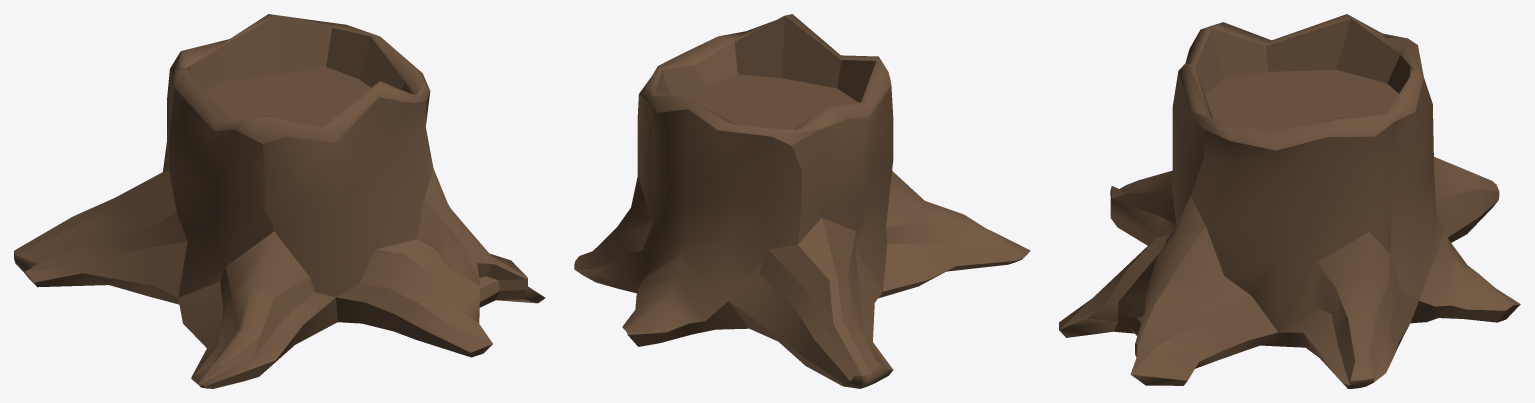
Rendered from stump1.fbx.
3 renders of one model, left to right at view 1: azimuth 30°, elevation 25°; view 2: azimuth 150°, elevation 25°; view 3: azimuth 270°, elevation 25°, orthographic. The views are drawn at different scales.
Parts seen in each view (by area): view 1: Stump_01; view 2: Stump_01; view 3: Stump_01.
Part boxes in pixels (left/top/right/bottom): Stump_01: left=14, top=14, right=545, bottom=388; Stump_01: left=574, top=14, right=1030, bottom=388; Stump_01: left=1059, top=14, right=1520, bottom=388.
Size of the model in its own units: 187 by 116 by 191.
